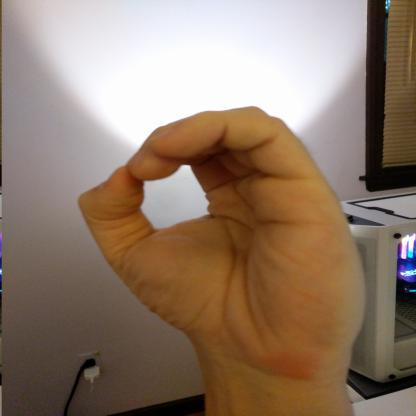O: (72, 102, 373, 378)
